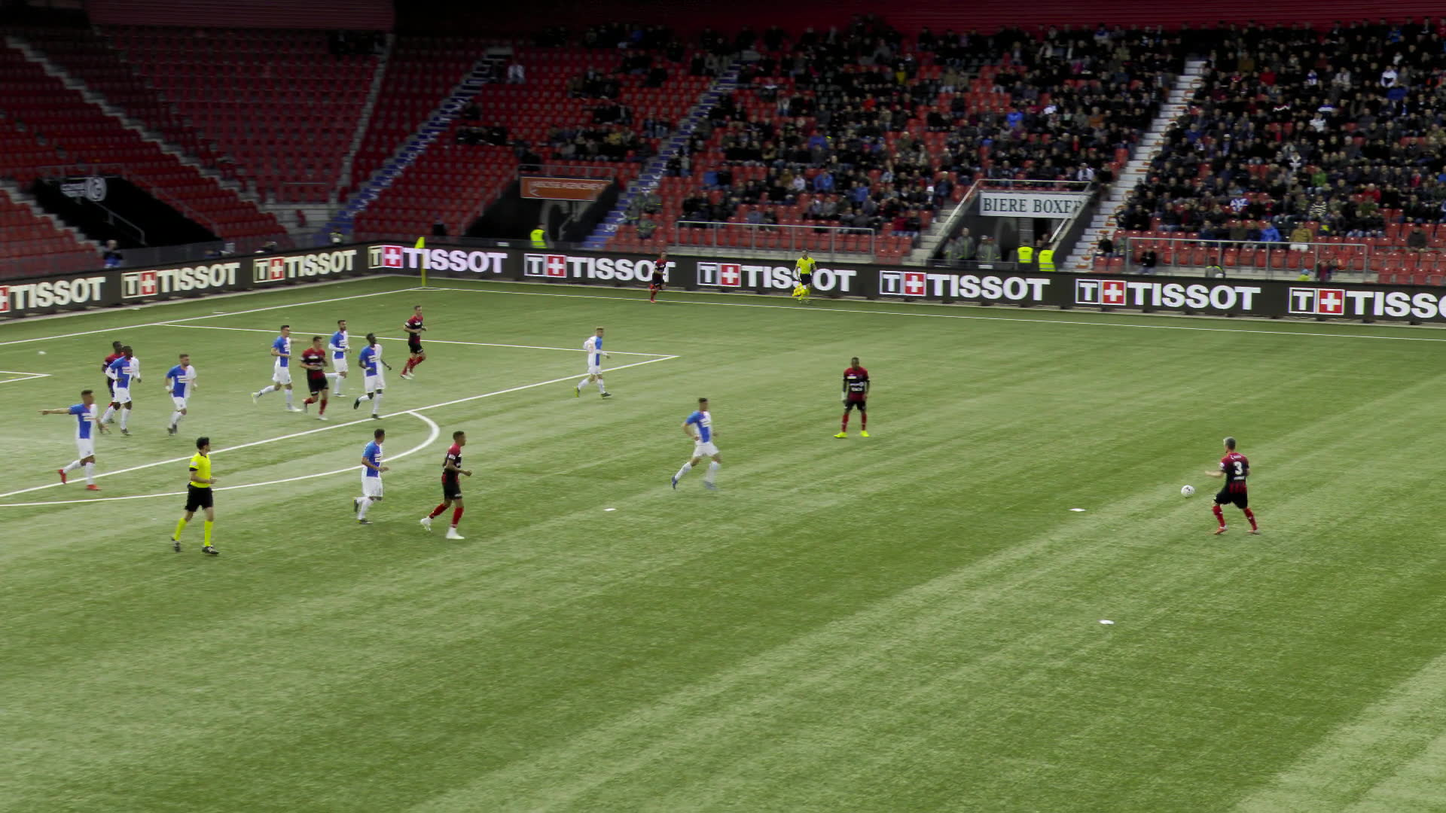ball: (1181, 487, 1194, 498)
player: (44, 385, 107, 490), (425, 426, 478, 537), (1207, 433, 1258, 535), (251, 323, 308, 411), (347, 427, 396, 524), (670, 397, 718, 492), (100, 346, 142, 434), (356, 327, 395, 418), (837, 355, 877, 439), (300, 333, 337, 419), (165, 352, 200, 436), (575, 325, 611, 400), (397, 302, 432, 379), (106, 337, 134, 423), (325, 318, 355, 396), (643, 249, 673, 303)
referee: (173, 436, 221, 554), (791, 249, 819, 305)
